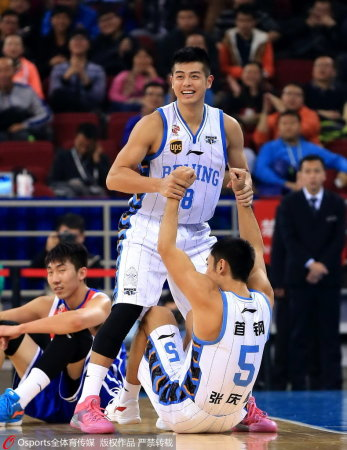10+: (1, 5, 347, 410)
down: (123, 168, 286, 433), (1, 246, 116, 418)
